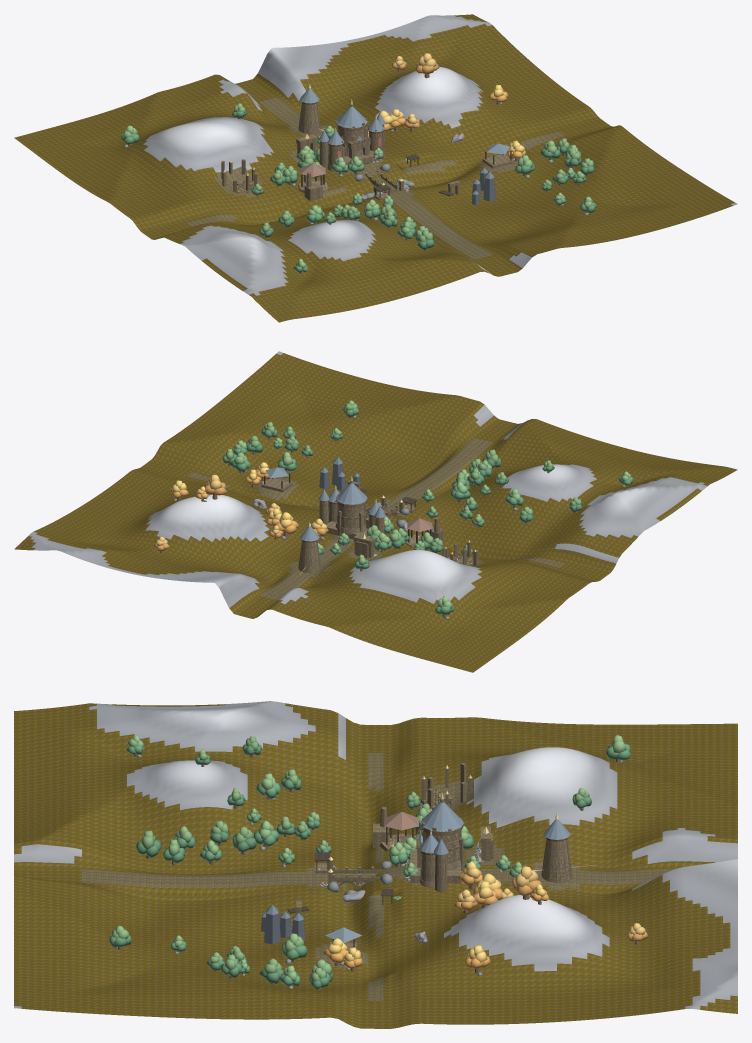
Rendered from world.glb.
3 renders of one model, top to bottom at view 1: azimuth 30°, elevation 25°; view 2: azimuth 150°, elevation 25°; view 3: azimuth 270°, elevation 25°, orthographic. The views are drawn at different scales.
Parts seen in each view (by area): view 1: vaelmor_Terrain, vaelmor_ImportedCatalogAndFlora, vaelmor_Roads, vaelmor_Masonry; view 2: vaelmor_Terrain, vaelmor_ImportedCatalogAndFlora, vaelmor_Roads, vaelmor_Masonry; view 3: vaelmor_Terrain, vaelmor_ImportedCatalogAndFlora, vaelmor_Roads, vaelmor_Masonry, vaelmor_Timber.
Part boxes in pixels (x1,y1,x2,y2): vaelmor_Terrain: (14, 14, 734, 322); vaelmor_ImportedCatalogAndFlora: (121, 15, 737, 295); vaelmor_Roads: (187, 97, 564, 259); vaelmor_Masonry: (221, 103, 514, 201); vaelmor_Terrain: (14, 353, 737, 672); vaelmor_ImportedCatalogAndFlora: (28, 351, 707, 619); vaelmor_Roads: (187, 438, 564, 600); vaelmor_Masonry: (261, 478, 478, 572); vaelmor_Terrain: (14, 703, 737, 1028); vaelmor_ImportedCatalogAndFlora: (14, 701, 737, 1009); vaelmor_Roads: (82, 753, 669, 1000); vaelmor_Masonry: (296, 763, 572, 951); vaelmor_Timber: (287, 826, 417, 947).
Size of the model in its own units: 224 by 37.3 by 224.
5 materials, 4 textured.
